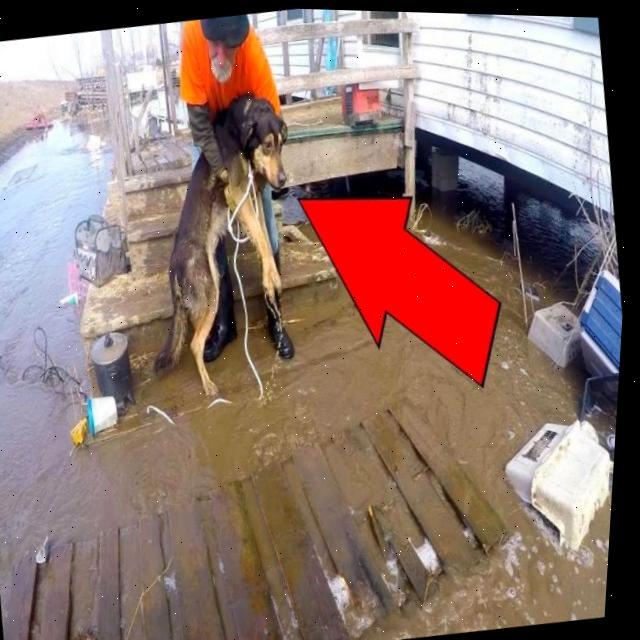civilian: (147, 6, 334, 368)
dog: (121, 85, 345, 406)
